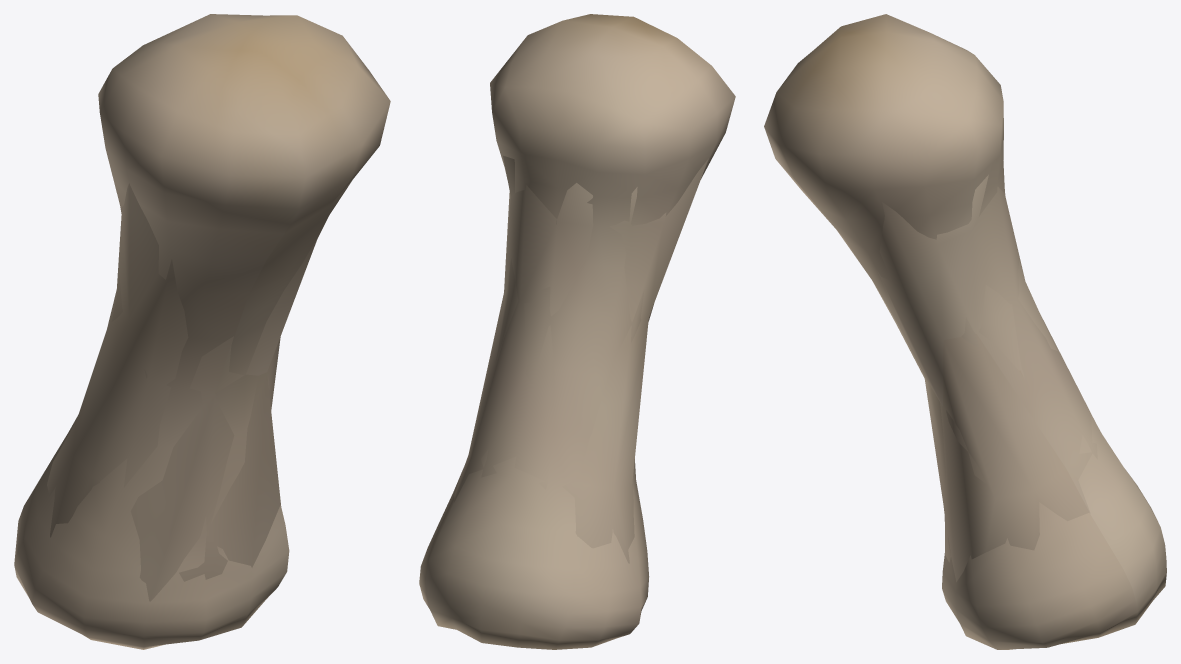
The model's file is vertebrae caudales 08.fbx.
3 renders of one model, left to right at view 1: azimuth 30°, elevation 25°; view 2: azimuth 150°, elevation 25°; view 3: azimuth 270°, elevation 25°, orthographic. The views are drawn at different scales.
Parts seen in each view (by area): view 1: vertebrae caudales 08, vertebrae caudales 08 low; view 2: vertebrae caudales 08, vertebrae caudales 08 low; view 3: vertebrae caudales 08, vertebrae caudales 08 low.
Boxes of the visible parts, bbox=[...] form: vertebrae caudales 08: bbox=[14, 14, 390, 649]; vertebrae caudales 08 low: bbox=[47, 183, 318, 601]; vertebrae caudales 08: bbox=[419, 14, 735, 649]; vertebrae caudales 08 low: bbox=[454, 155, 708, 563]; vertebrae caudales 08: bbox=[764, 14, 1166, 649]; vertebrae caudales 08 low: bbox=[877, 174, 1097, 582].
Bounding box in the file's own units: 1.53 × 3.91 × 2.43.
Materials: 1 (1 with a texture image).
